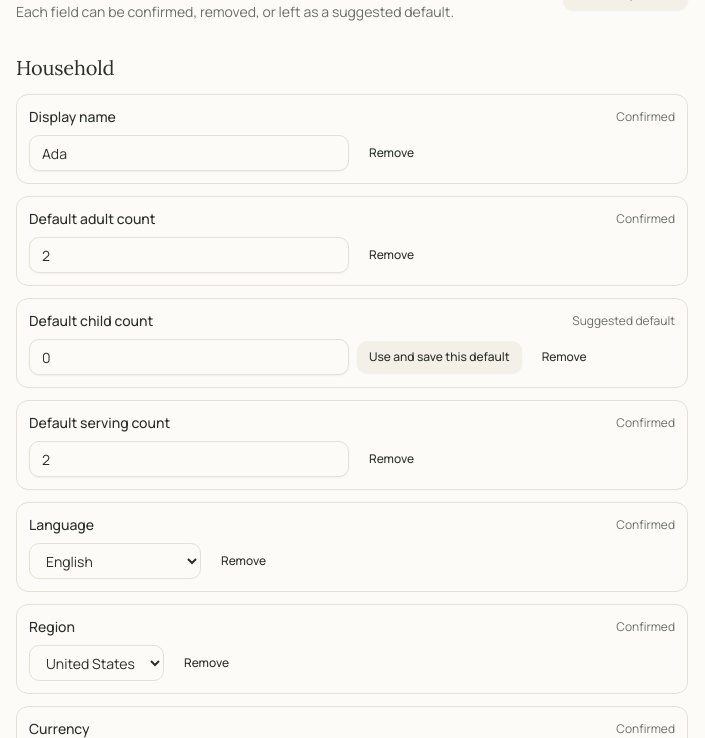
Test: ProfileDataPage › maps backend field errors onto the matching field and summarizes unmatched ones
The width and height of the screenshot is (705, 738).
Replace the text in the field with test id "profile-data-input-displayName" with "x" at (189, 153), box [29,135,349,171]
(page scrolled)
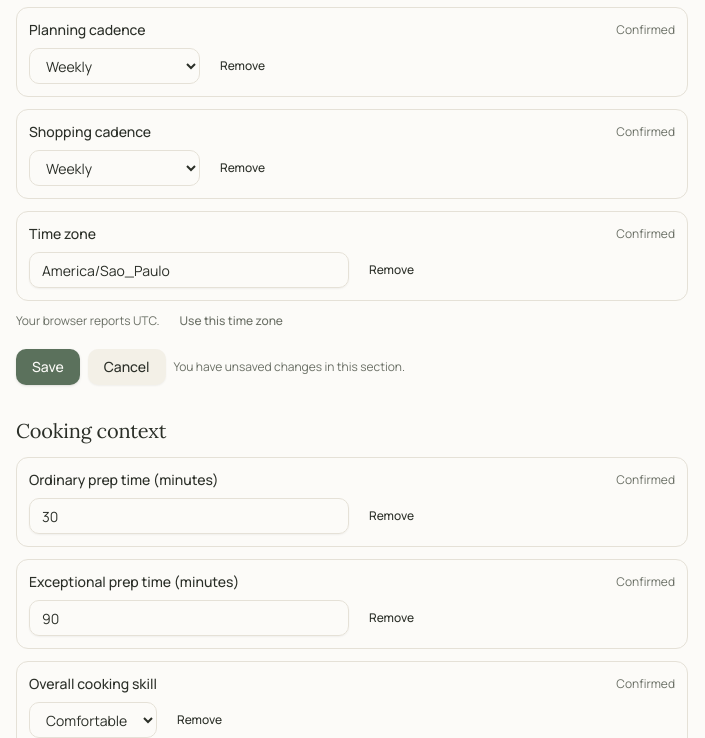
Click the button with test id "profile-data-household-save" at (48, 367), box [16,349,80,385]
(page scrolled)
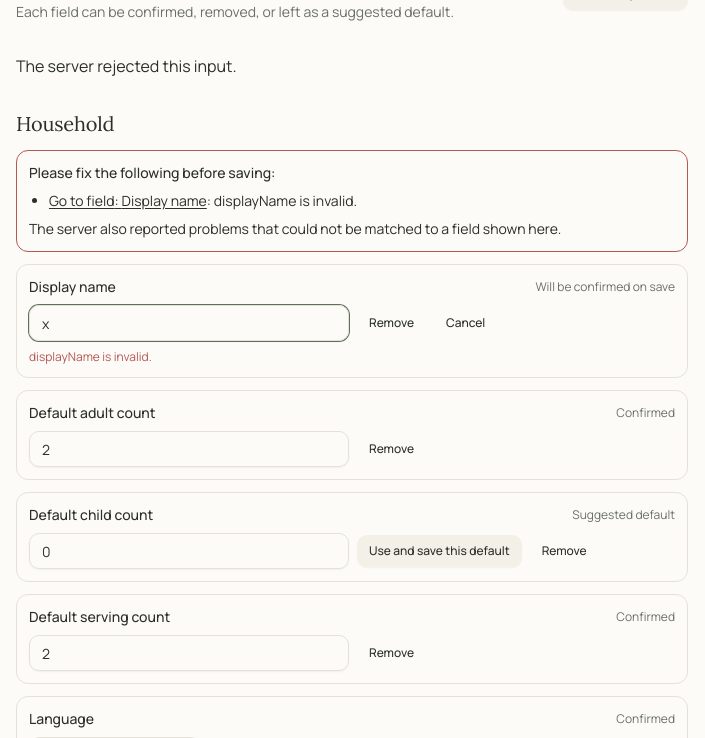
Expected: the message with test id "profile-data-error-displayName" reads "displayName is invalid.", [29,348,152,365]
Expected: the text with test id "profile-data-household-error-summary-unknown" is shown, [29,219,561,238]
